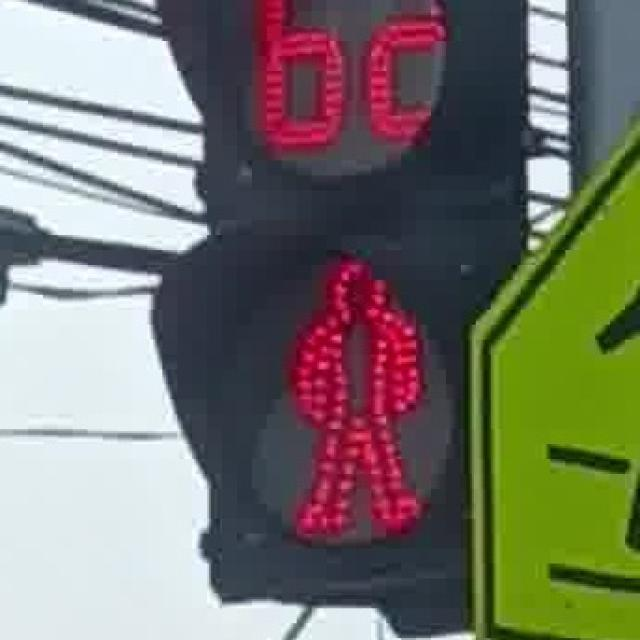red-crossing: (274, 246, 433, 547)
